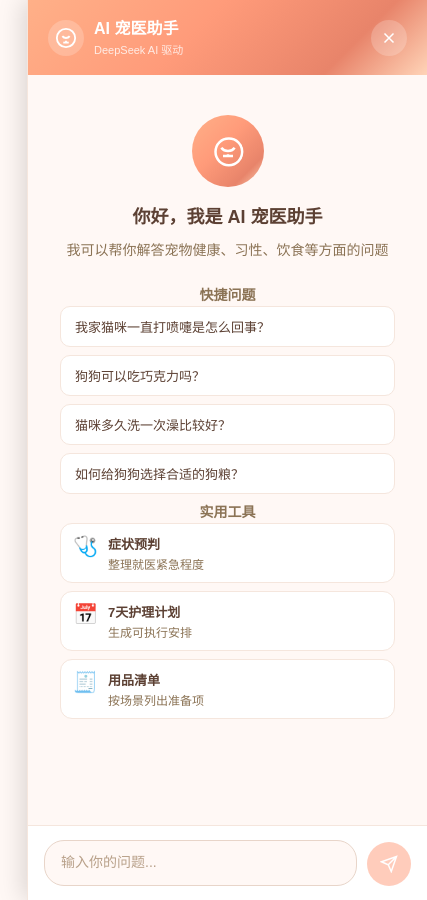
AIPetDoctorChat - 模拟 API 测试 › 发送消息失败，显示错误信息
Type "狗狗拉肚子" into the text box with placeholder "输入你的问题...".
click(200, 863); type("狗狗拉肚子")  # box [44, 840, 357, 886]
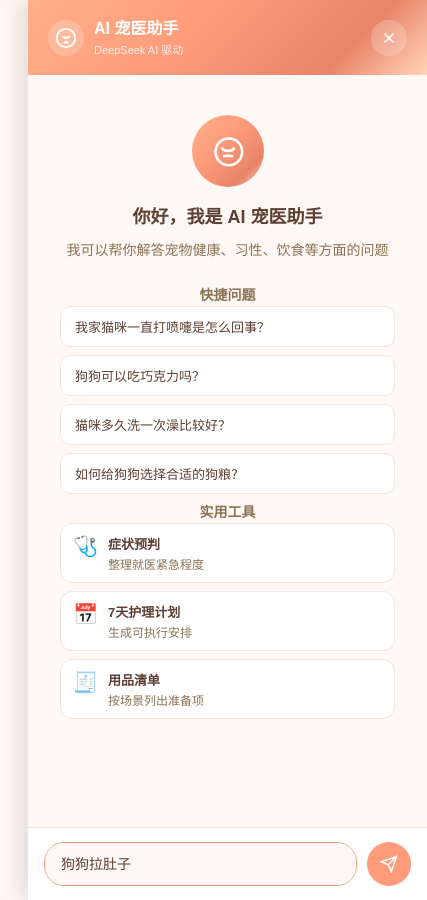
Click the 9th button.
click(389, 864)  # box [367, 842, 411, 886]
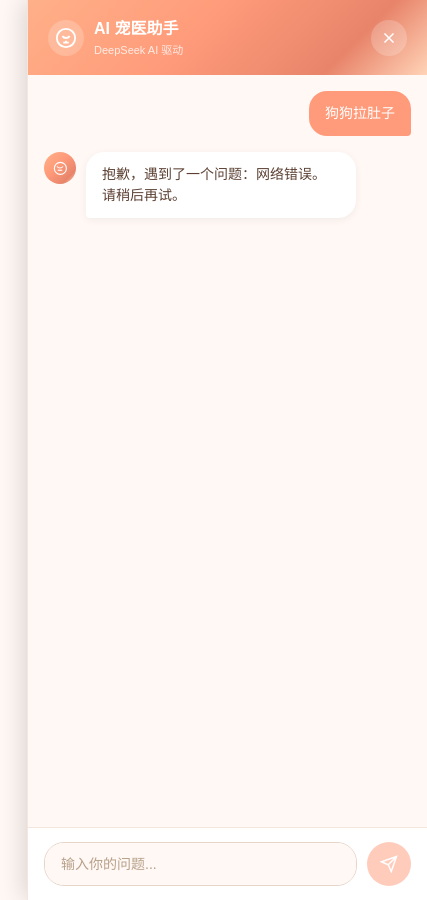
Expected: the text "抱歉，遇到了一个问题：网络错误。请稍后再试。" is shown, [86, 152, 356, 218]
